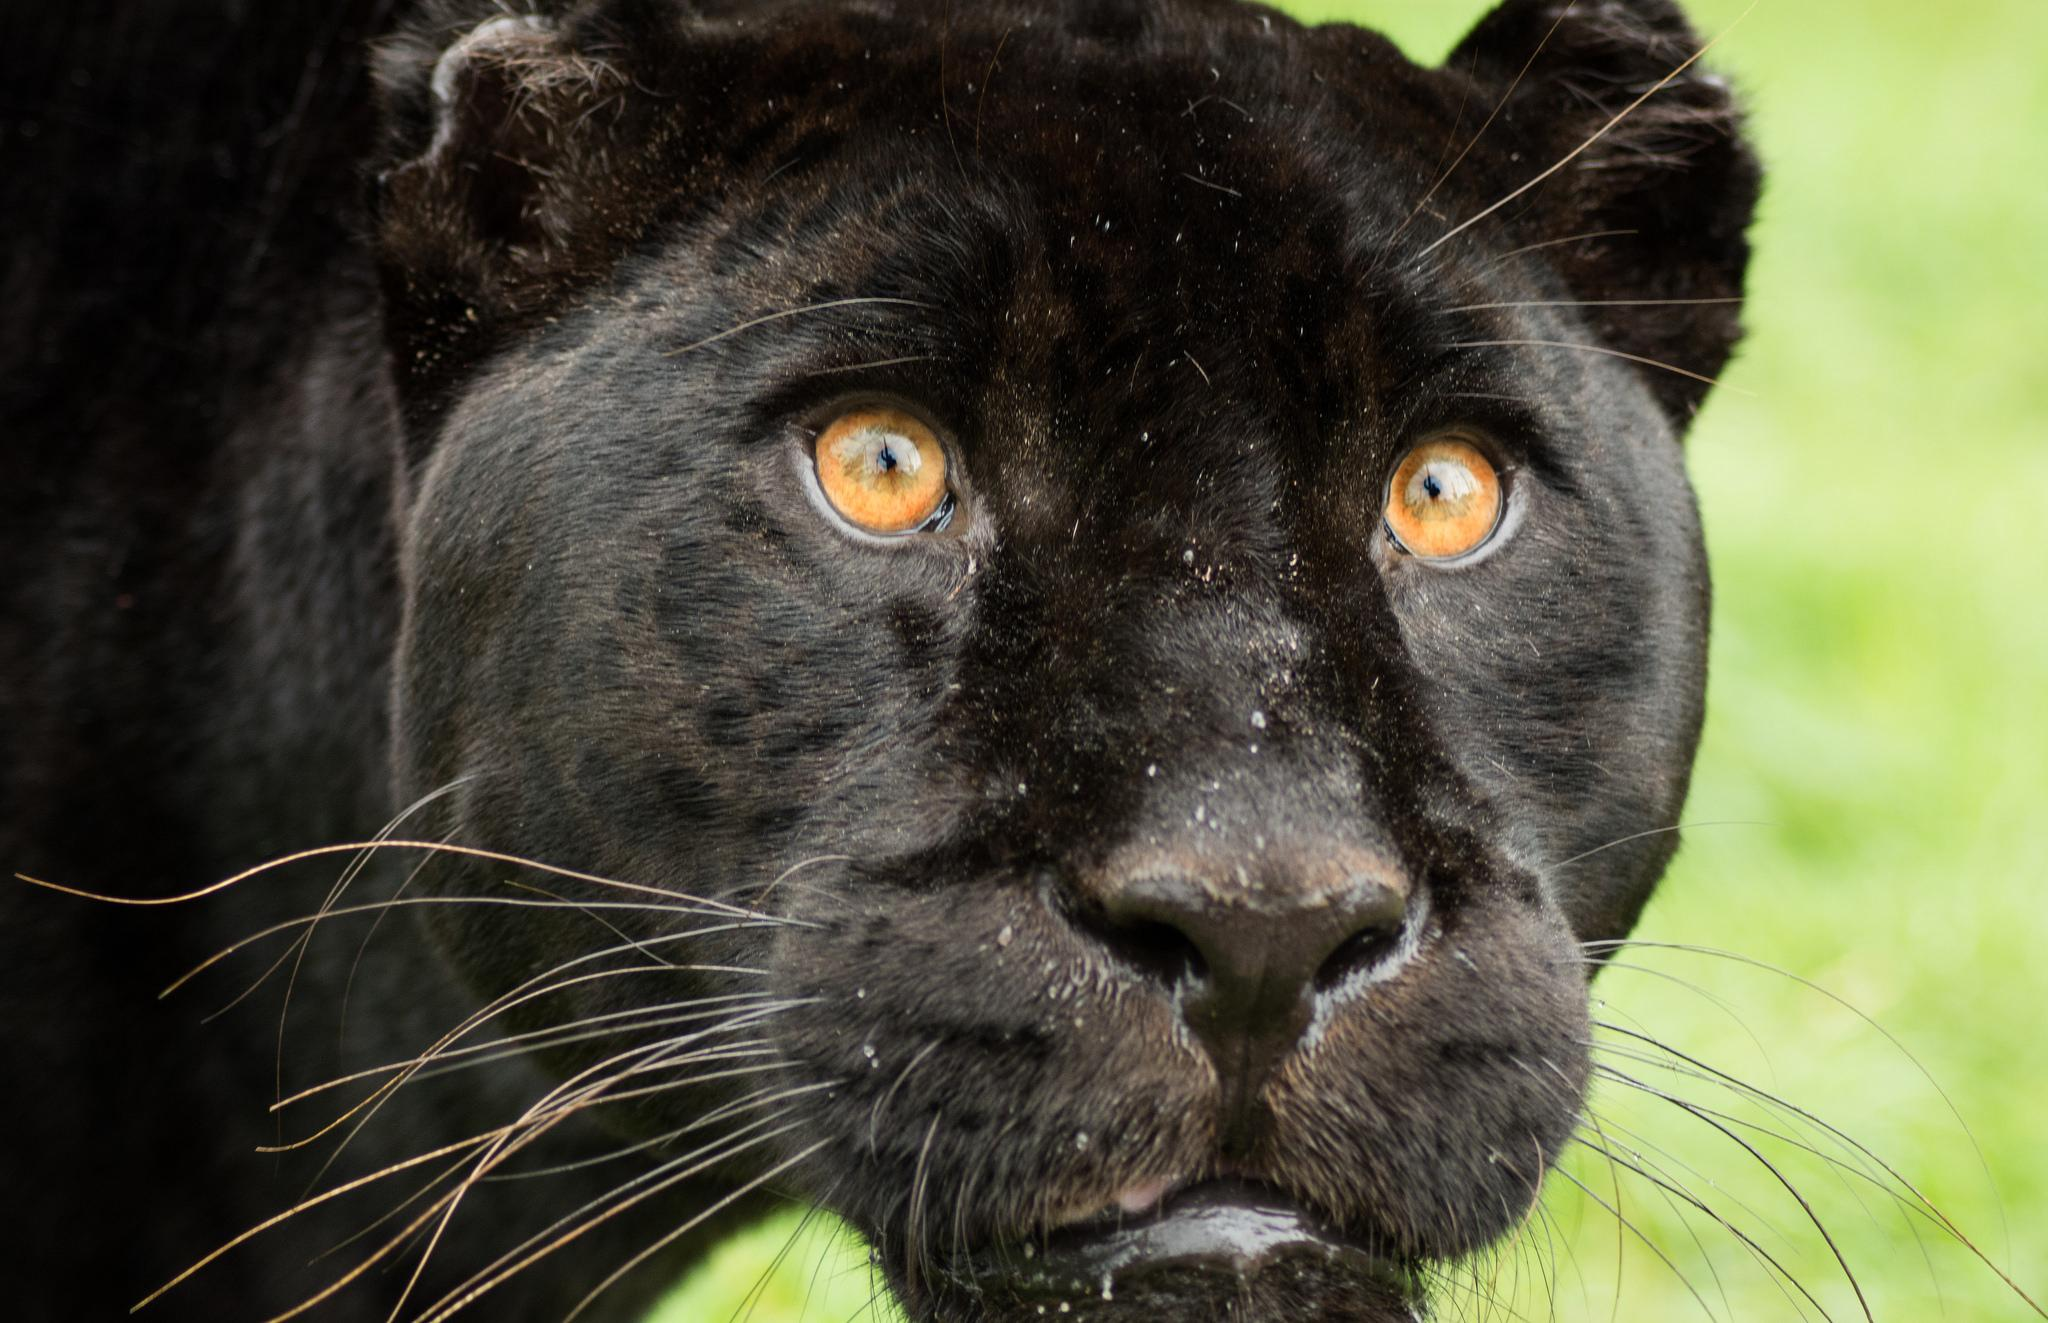panther: (63, 13, 1772, 1323)
